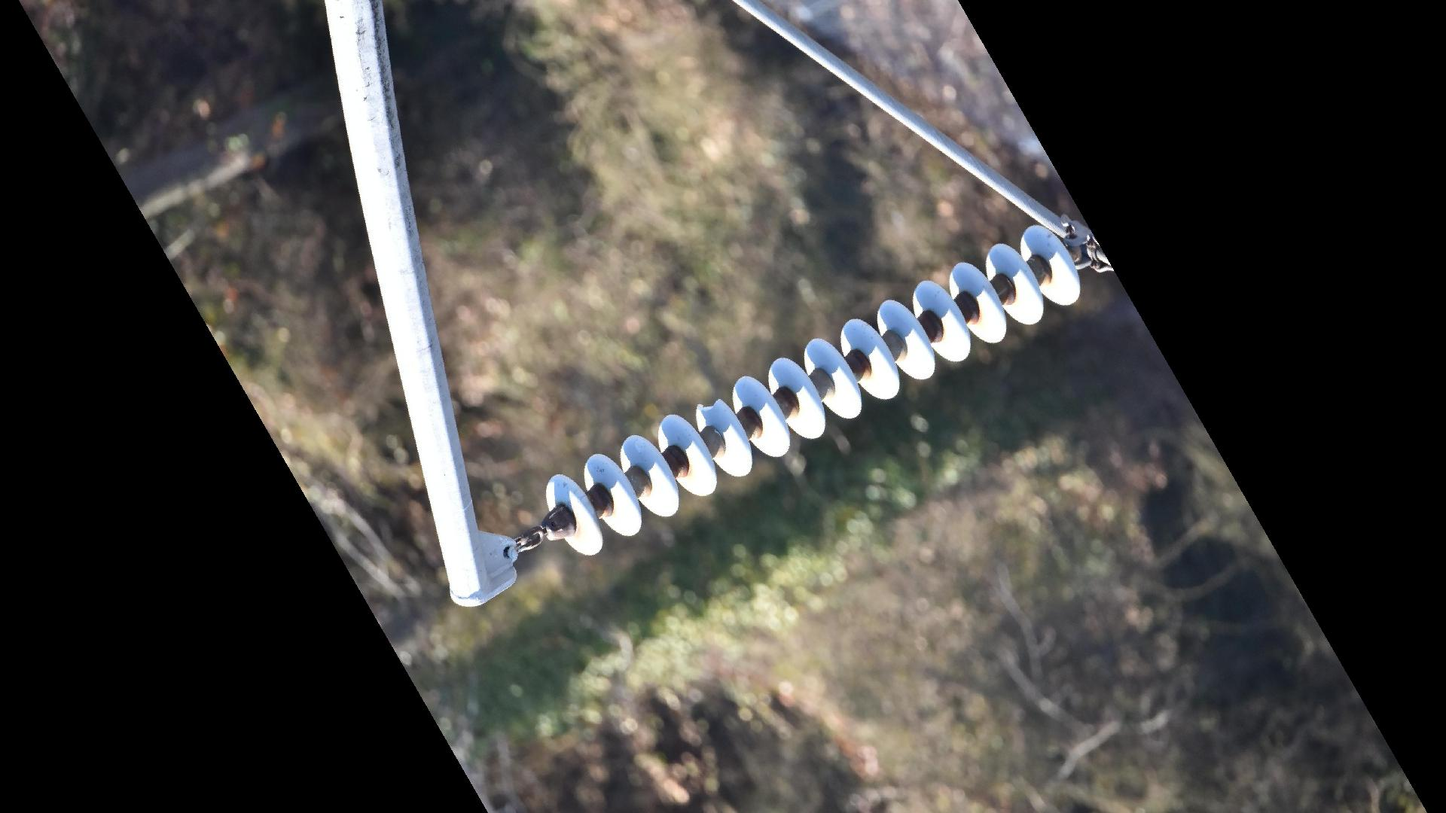insulator: (538, 216, 1084, 563)
insulator_breakage: (691, 391, 728, 418)
